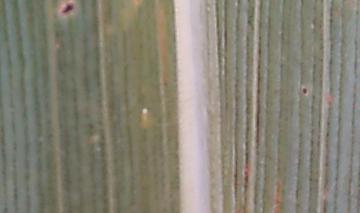tarspot: (61, 3, 74, 16), (300, 85, 308, 95)
